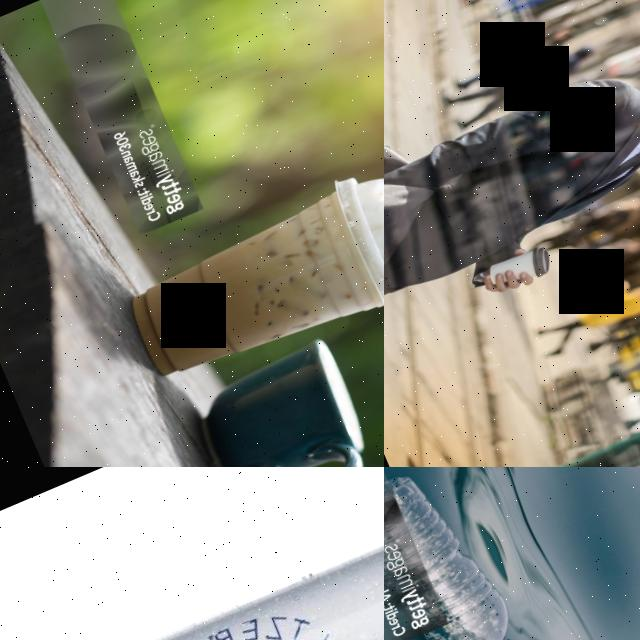bottle: (384, 467, 531, 640)
can: (0, 496, 384, 640)
cup: (114, 145, 384, 404), (477, 236, 559, 298)
